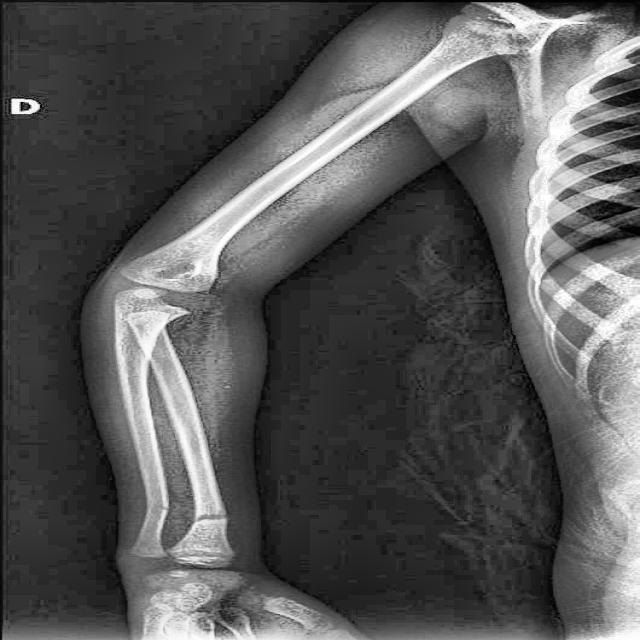line: (190, 512, 227, 526), (142, 504, 172, 520)
